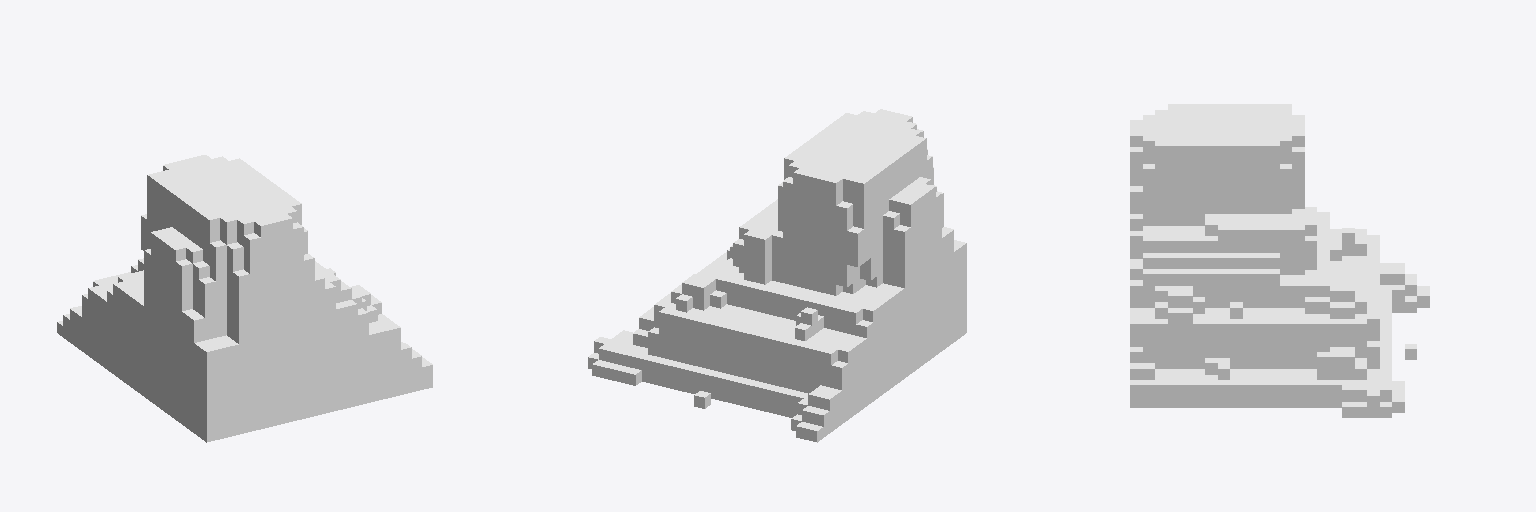
File: env_rocks4.obj
3 views of the same model, side by side, from view 1: azimuth 30°, elevation 25°; view 2: azimuth 150°, elevation 25°; view 3: azimuth 270°, elevation 25° (orthographic).
Visible parts, largest first — view 1: object 1; view 2: object 1; view 3: object 1.
Boxes of the visible parts, box(x1,y1,x2,y2) form: object 1: box(57, 155, 432, 442); object 1: box(588, 109, 966, 442); object 1: box(1130, 104, 1429, 417).
Size of the model in its own units: 2.3 by 1.8 by 2.4.